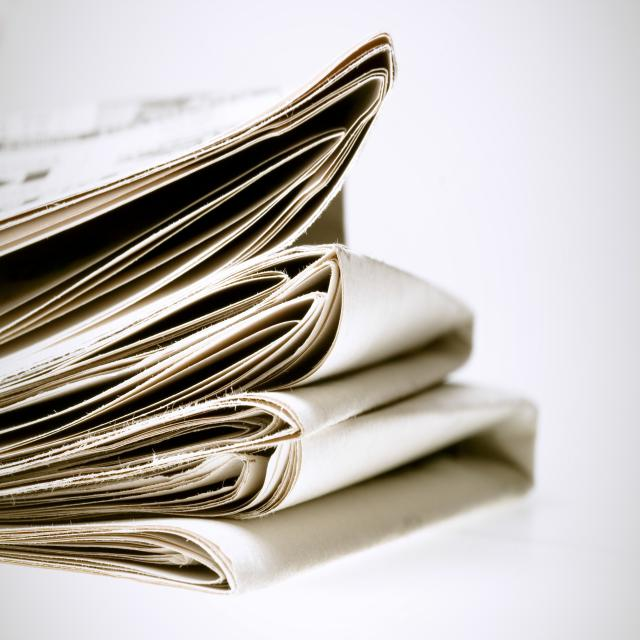paper: (71, 120, 441, 528)
